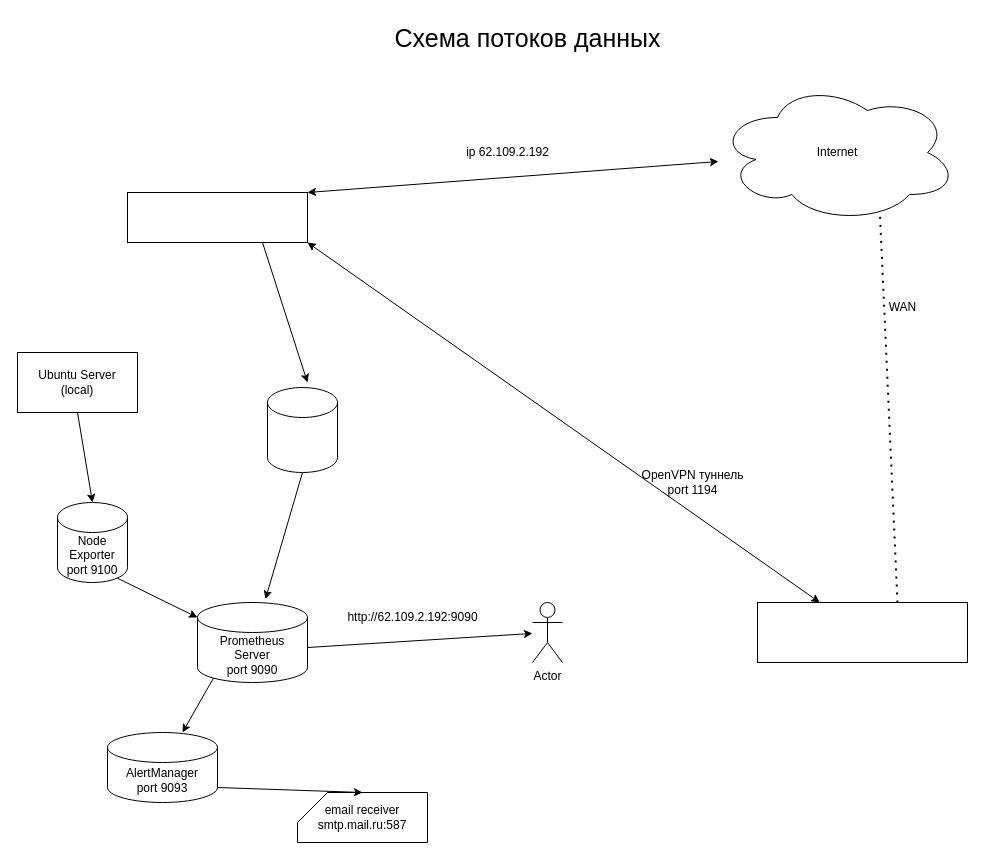
Image size: 985x860. Some labels were removed from this diagram. Each missing label, with the centre of its shape:
OpenVPN Client (Windows): point 862,632
OpenVPN Exporter port 9176: point 302,429
OpenVPN Server port 1194: point 217,217
